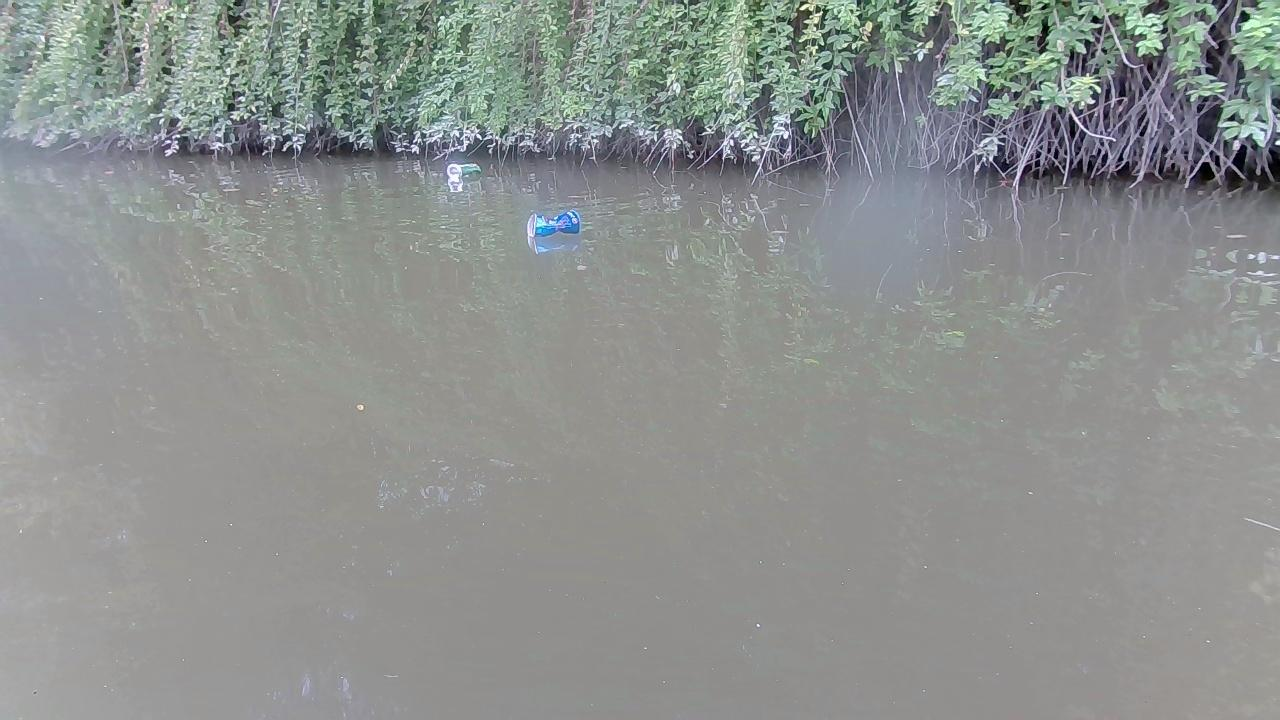Metal: (525, 208, 583, 238), (447, 162, 483, 181)
